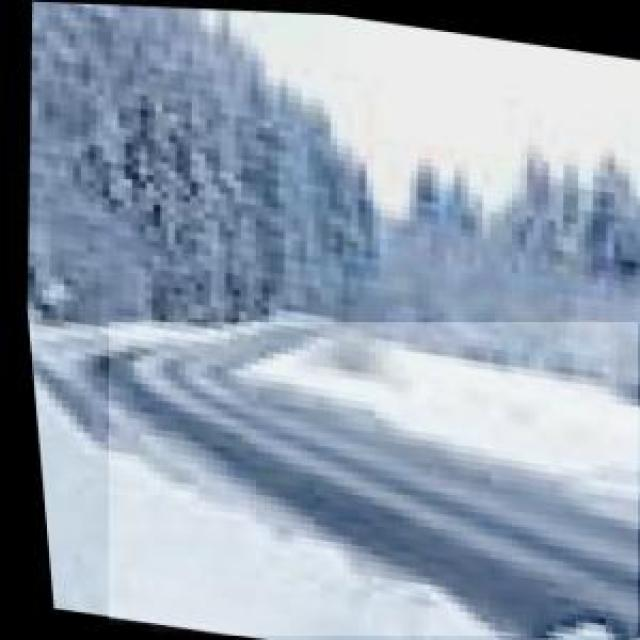ice-road: (109, 323, 638, 635)
